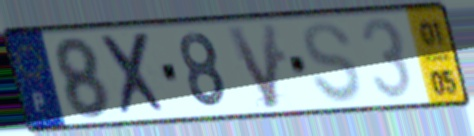3: (359, 14, 417, 104)
8: (53, 34, 116, 121), (177, 30, 230, 110)
S: (302, 19, 364, 106)
V: (223, 20, 281, 113)
X: (97, 29, 173, 120)
